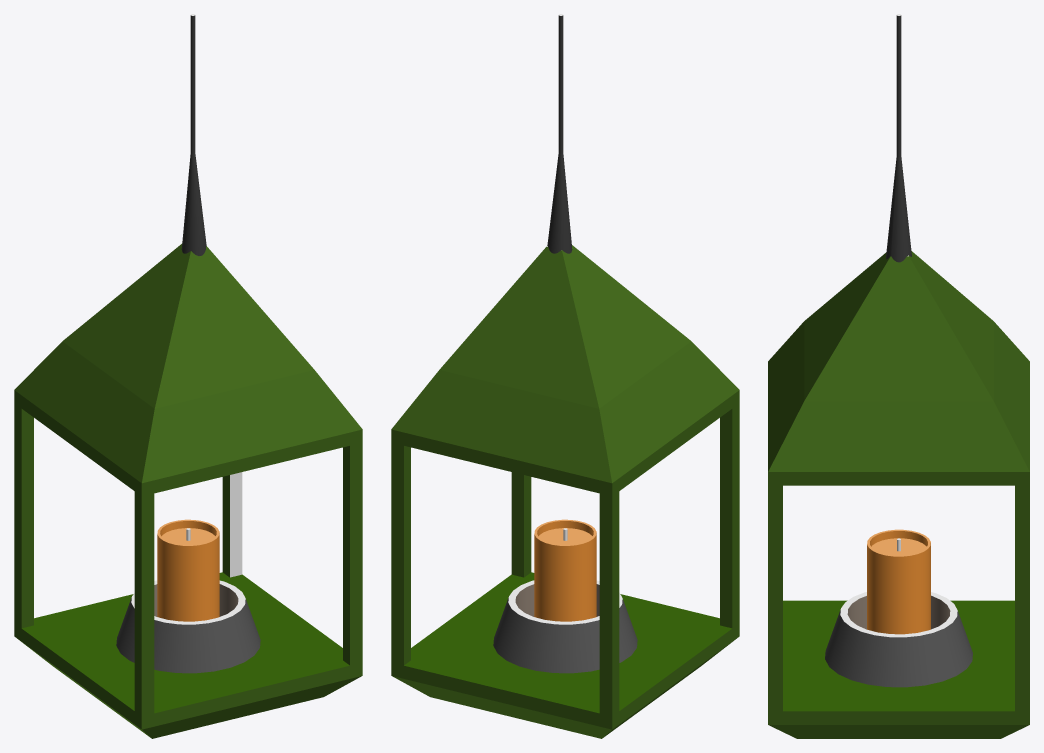
File: candle_lantern.obj
The picture shows the model from 3 angles, left to right: view 1: azimuth 30°, elevation 25°; view 2: azimuth 150°, elevation 25°; view 3: azimuth 270°, elevation 25°; orthographic projection. The views are drawn at different scales.
Visible parts, largest first — view 1: Mesh1 Project_1_1 Model; view 2: Mesh1 Project_1_1 Model; view 3: Mesh1 Project_1_1 Model.
Boxes of the visible parts, x1,y1,x2,y2 form: Mesh1 Project_1_1 Model: (14,14,362,738); Mesh1 Project_1_1 Model: (391,14,739,738); Mesh1 Project_1_1 Model: (768,14,1029,738).
Bounding box in the file's own units: 225 × 648 × 225.
